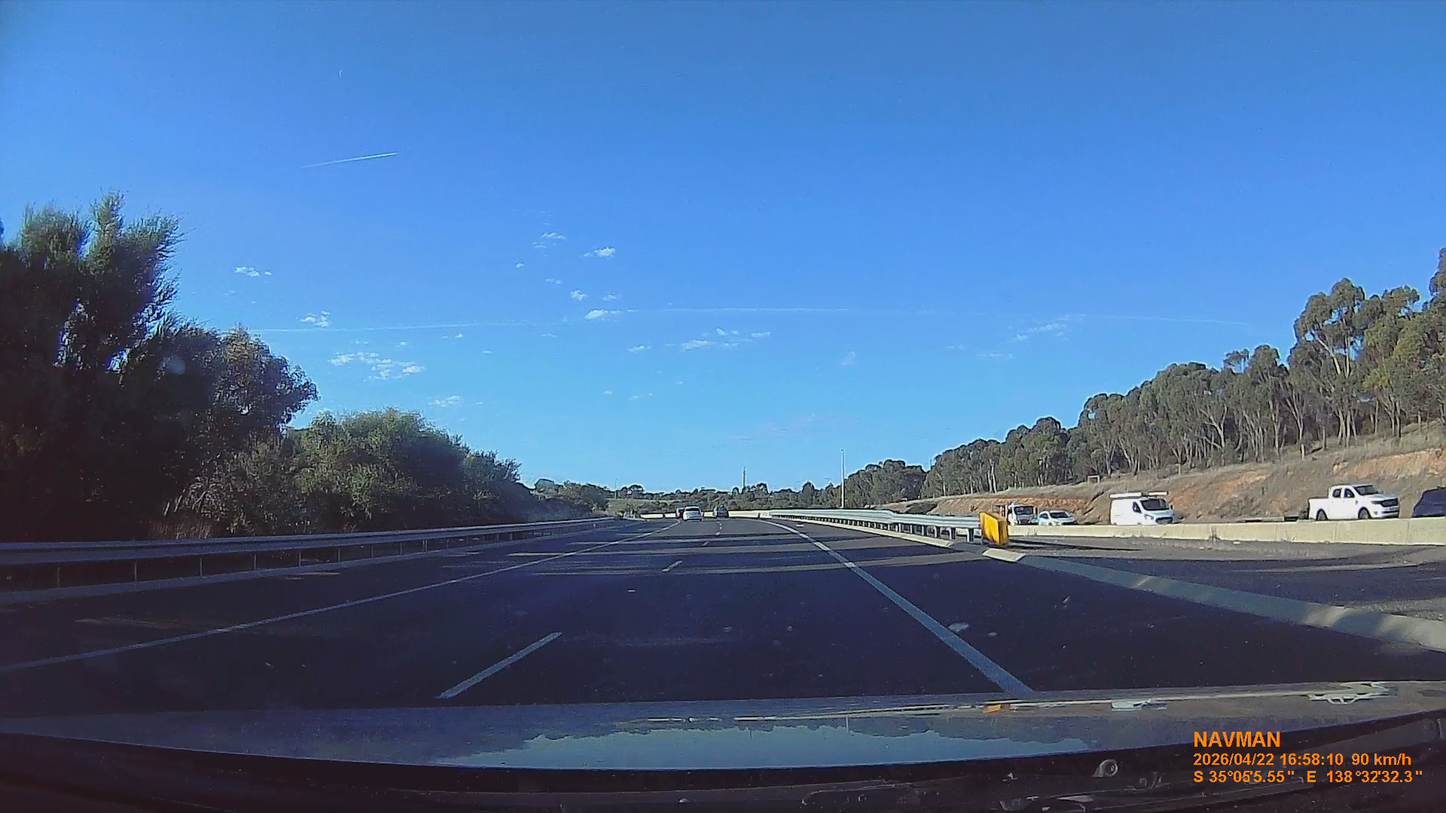road barriers: (0, 521, 606, 603), (758, 510, 1009, 544)
